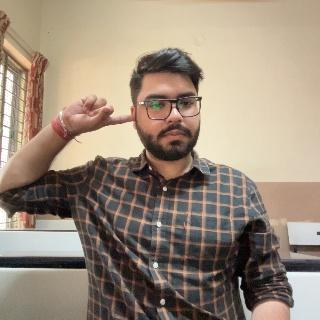Deaf: (57, 94, 136, 132)
Face: (134, 48, 203, 161)
